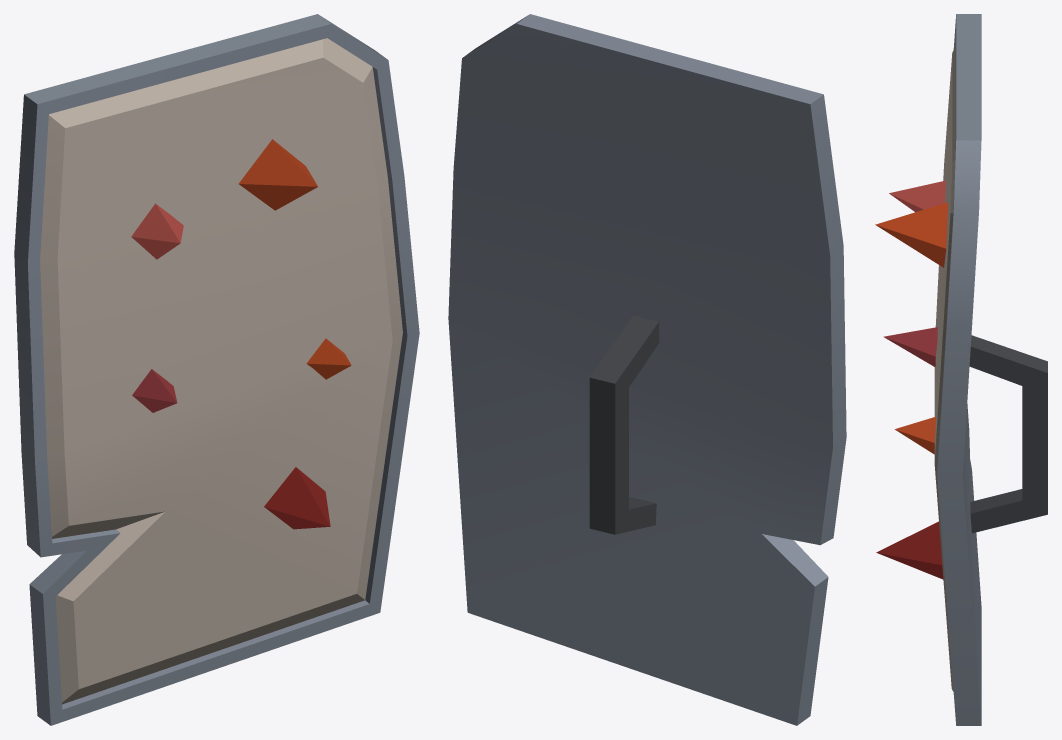
The model's file is weapon_shield.fbx.
The picture shows the model from 3 angles, left to right: view 1: azimuth 30°, elevation 25°; view 2: azimuth 150°, elevation 25°; view 3: azimuth 270°, elevation 25°; orthographic projection. The views are drawn at different scales.
Parts seen in each view (by area): view 1: weapon_shield; view 2: weapon_shield; view 3: weapon_shield.
Part boxes in pixels (x1,y1,x2,y2): weapon_shield: (14, 14, 419, 725); weapon_shield: (448, 14, 846, 725); weapon_shield: (875, 14, 1047, 725).
Size of the model in its own units: 82.76 by 130 by 34.19.
1 material, 1 textured.
